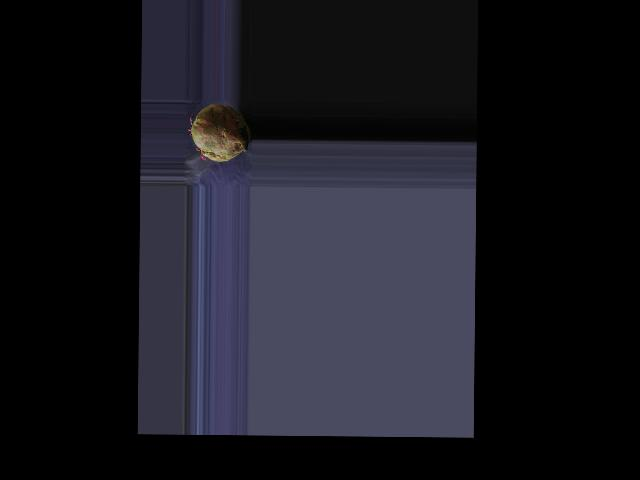beet: (188, 104, 250, 162)
